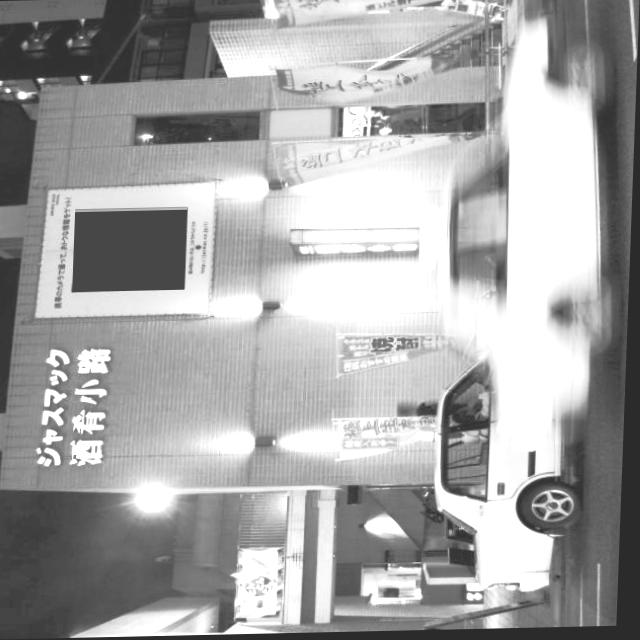qr_code: (74, 207, 189, 291)
